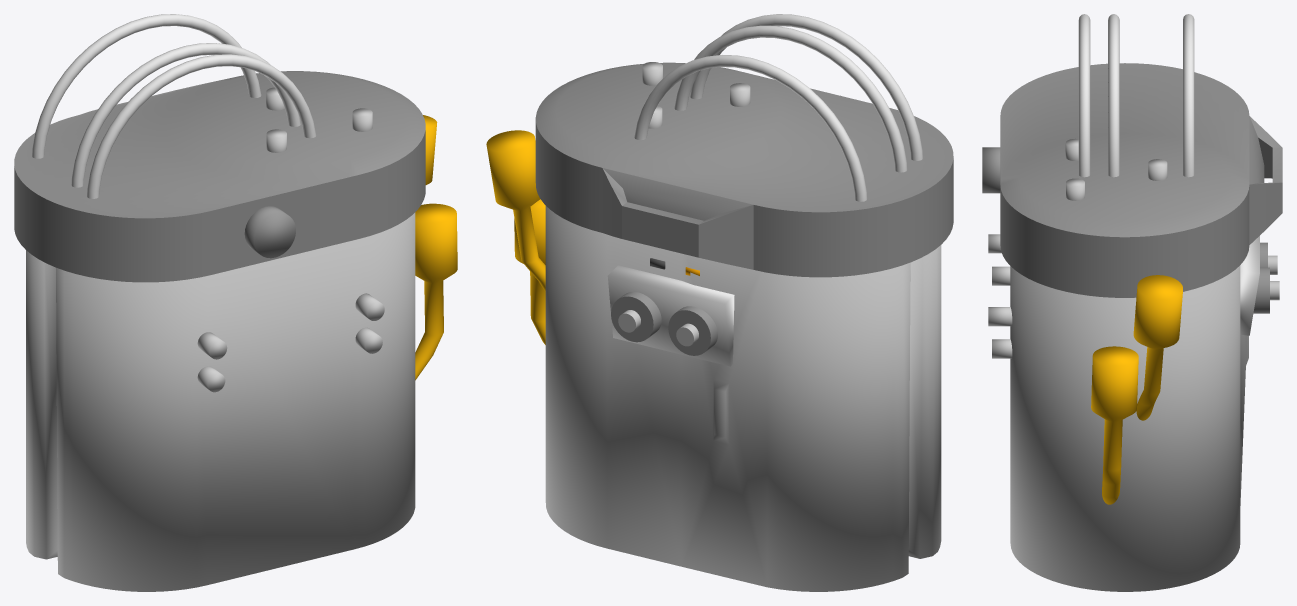
The model's file is cool_.fbx.
3 views of the same model, side by side, from view 1: azimuth 30°, elevation 25°; view 2: azimuth 150°, elevation 25°; view 3: azimuth 270°, elevation 25° (orthographic). The views are drawn at different scales.
Parts seen in each view (by area): view 1: MainBody, MotorCap, Connector_1, CapRing, CapRing.002, CapRing.001, MountHole_2, Connector_2, Bolt_1, Bolt_2; view 2: MainBody, MotorCap, TopCover.001, Connector_2, CapRing.002, CapRing.001, CapRing, Connector_1, MountHole_3, MountHole_3.001; view 3: MainBody, MotorCap, Connector_1, Connector_2, CapRing, CapRing.001, CapRing.002, TopCover.001, MountHole_2, MountHole_3, Bolt_2, Bolt_8 (+2 smaller).
Boxes of the visible parts, x1=… form: MainBody: x1=26, y1=212, x2=415, y2=591; MotorCap: x1=14, y1=71, x2=425, y2=282; Connector_1: x1=415, y1=203, x2=457, y2=380; CapRing: x1=87, y1=54, x2=316, y2=198; CapRing.002: x1=32, y1=14, x2=261, y2=158; CapRing.001: x1=71, y1=43, x2=300, y2=187; MountHole_2: x1=244, y1=206, x2=295, y2=258; Connector_2: x1=423, y1=115, x2=437, y2=184; Bolt_1: x1=197, y1=332, x2=227, y2=359; Bolt_2: x1=355, y1=293, x2=384, y2=320; MainBody: x1=545, y1=206, x2=941, y2=591; MotorCap: x1=535, y1=62, x2=953, y2=277; TopCover.001: x1=607, y1=265, x2=734, y2=366; Connector_2: x1=486, y1=130, x2=545, y2=291; CapRing.002: x1=634, y1=55, x2=867, y2=201; CapRing.001: x1=674, y1=25, x2=907, y2=172; CapRing: x1=690, y1=14, x2=922, y2=160; Connector_1: x1=514, y1=199, x2=545, y2=344; MountHole_3: x1=611, y1=292, x2=661, y2=342; MountHole_3.001: x1=668, y1=306, x2=717, y2=355; MainBody: x1=1010, y1=265, x2=1248, y2=591; MotorCap: x1=1000, y1=63, x2=1282, y2=297; Connector_1: x1=1091, y1=346, x2=1138, y2=504; Connector_2: x1=1133, y1=275, x2=1182, y2=420; CapRing: x1=1078, y1=14, x2=1090, y2=177; CapRing.001: x1=1108, y1=14, x2=1119, y2=177; CapRing.002: x1=1183, y1=14, x2=1194, y2=177; TopCover.001: x1=1240, y1=236, x2=1259, y2=335; MountHole_2: x1=982, y1=147, x2=1000, y2=193; MountHole_3: x1=1253, y1=267, x2=1269, y2=313; Bolt_2: x1=988, y1=307, x2=1012, y2=326; Bolt_8: x1=1148, y1=159, x2=1167, y2=180.
Bounding box in the file's own units: 240 × 274 × 157.
